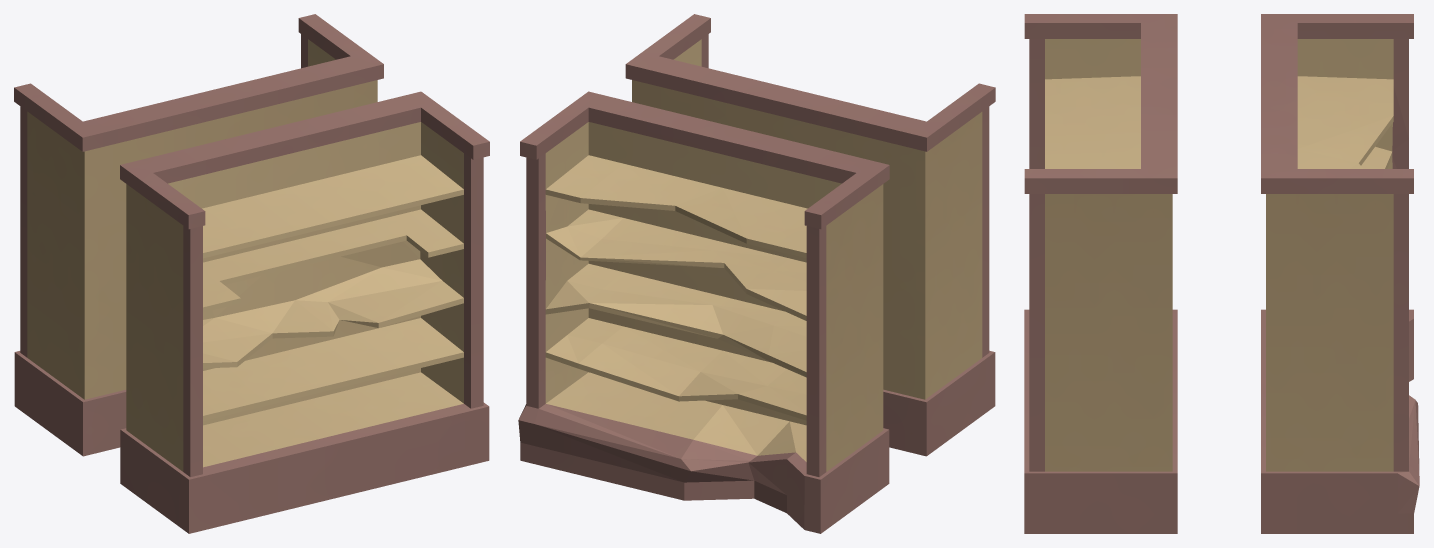
The model's file is shelf_3_A.obj.
3 views of the same model, side by side, from view 1: azimuth 30°, elevation 25°; view 2: azimuth 150°, elevation 25°; view 3: azimuth 270°, elevation 25° (orthographic). The views are drawn at different scales.
Parts seen in each view (by area): view 1: shelf_3_A_Mesh; view 2: shelf_3_A_Mesh; view 3: shelf_3_A_Mesh.
Boxes of the visible parts, x1,y1,x2,y2 form: shelf_3_A_Mesh: (14, 14, 489, 533); shelf_3_A_Mesh: (518, 14, 995, 533); shelf_3_A_Mesh: (1024, 14, 1419, 533).
Bounding box in the file's own units: 1.2 × 1.22 × 1.22.
